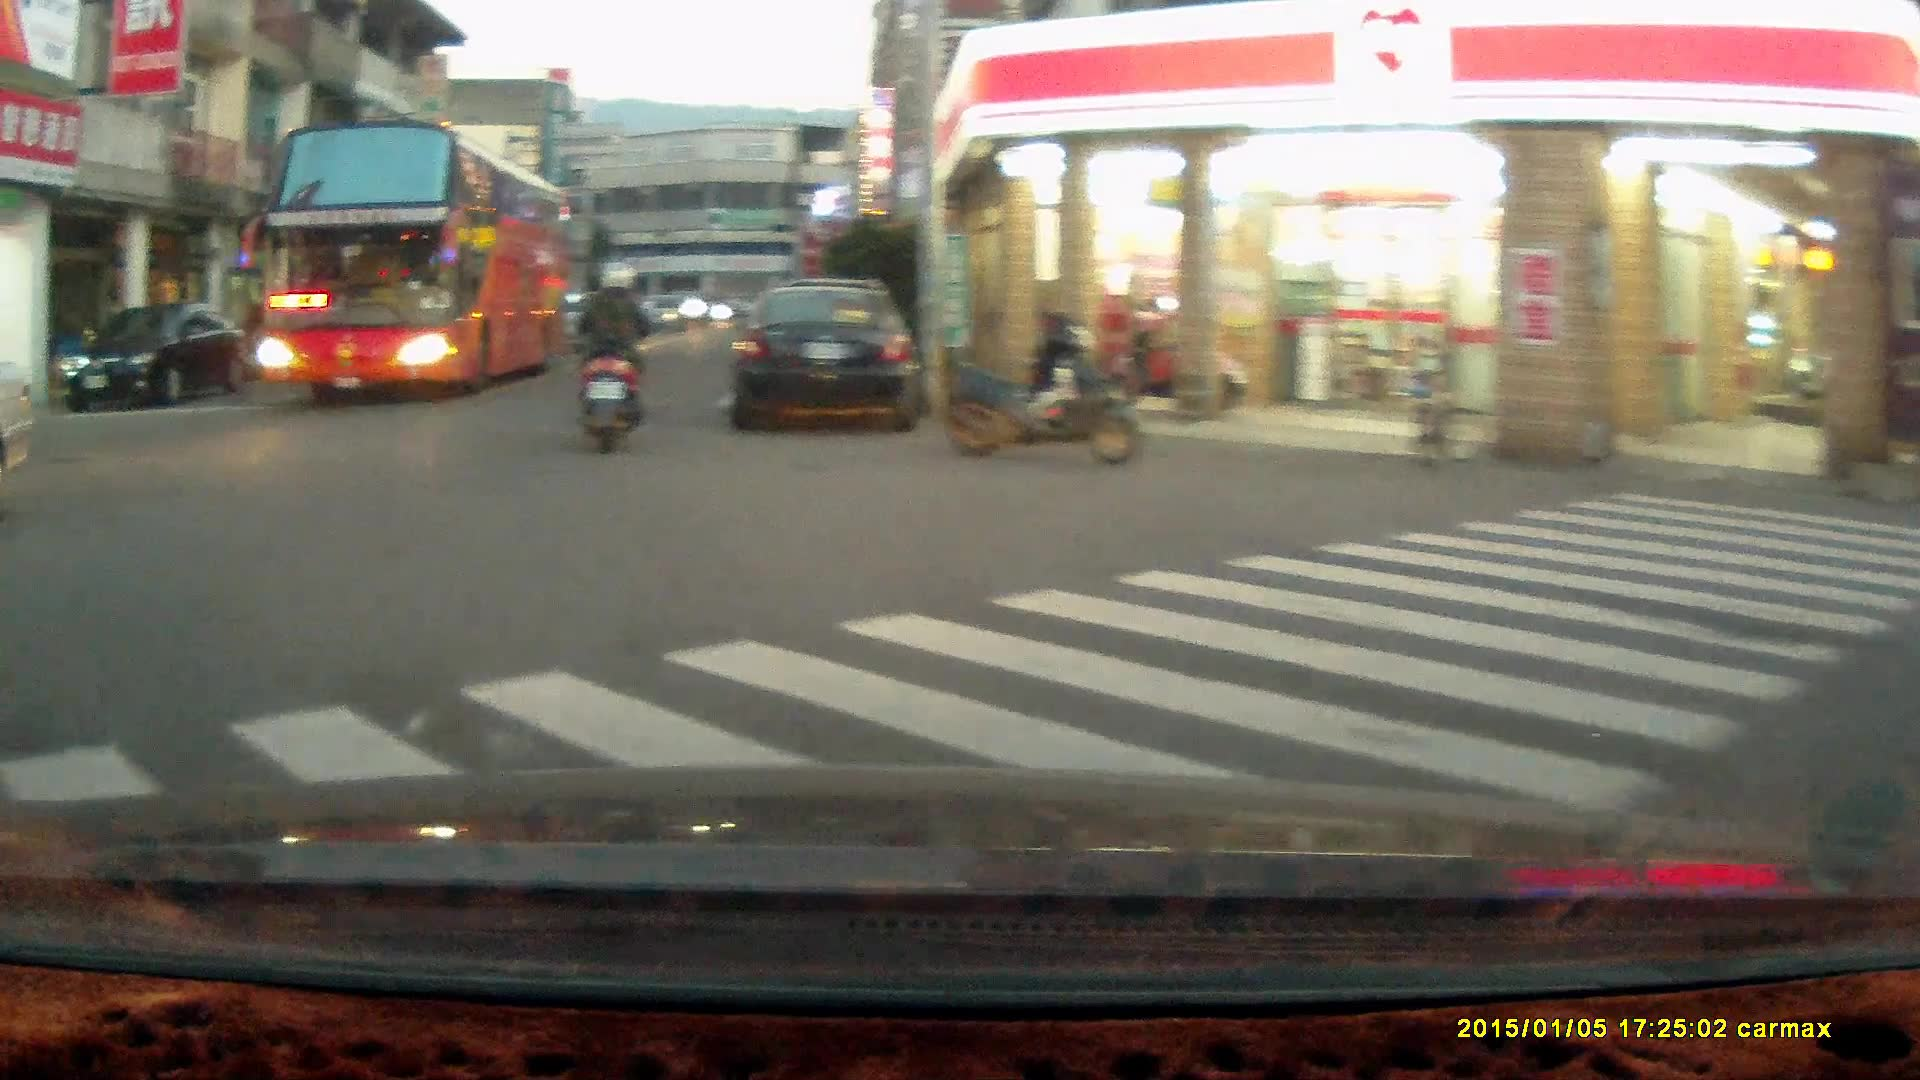rider: (563, 262, 652, 460)
vehicle: (255, 121, 576, 405), (727, 277, 924, 429), (58, 303, 256, 414)
